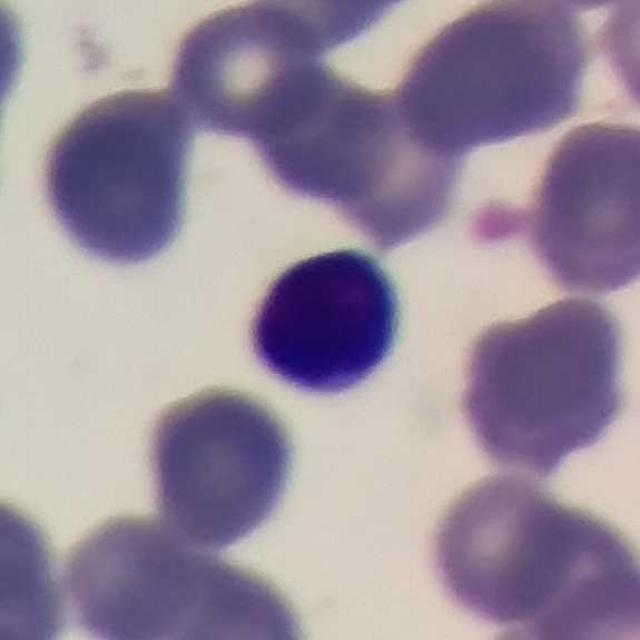Lymphocyte: (225, 236, 420, 411)
RBC: (26, 73, 214, 288), (444, 290, 639, 484), (385, 1, 597, 165), (49, 518, 324, 640), (134, 378, 307, 556), (309, 89, 476, 252), (414, 470, 581, 631), (159, 0, 330, 142), (518, 114, 640, 299), (493, 495, 640, 639), (256, 59, 394, 198), (0, 493, 69, 640), (525, 563, 640, 638), (594, 0, 639, 122)
